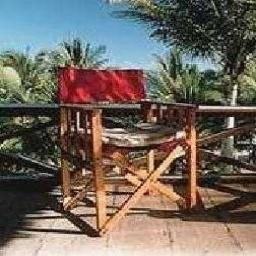Chair: (56, 68, 197, 232)
